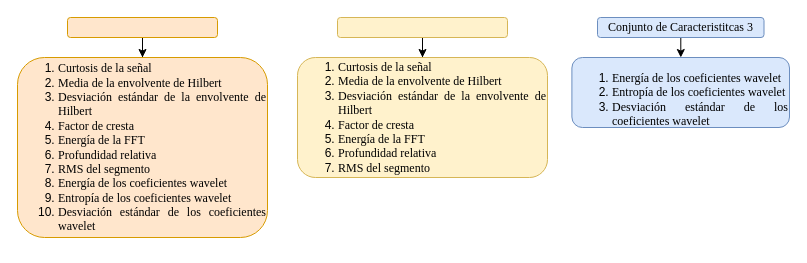
This 807x263 diagram has some shape labels left out. The shapes that lost their labels are listed below. From the top down, each one's centre as x and y in pixels, then its label:
At pixel 142 27: "Conjunto de Caracteristitcas1".
At pixel 422 27: "Conjunto de Caracteristitcas 2".
